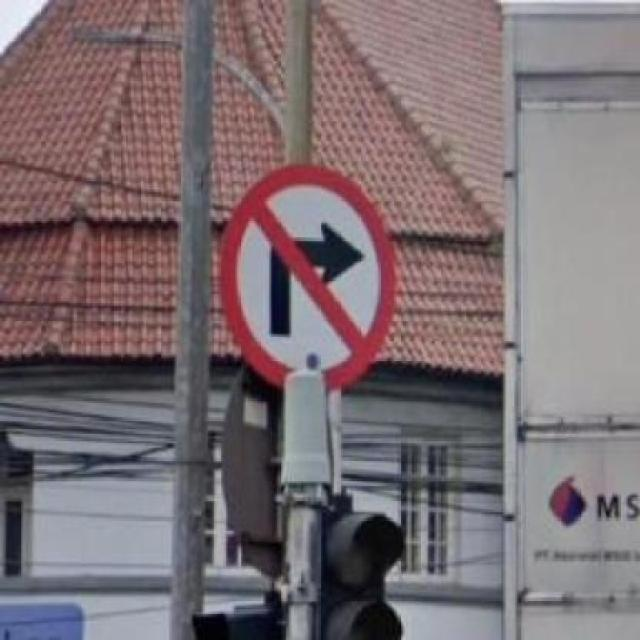right turn prohibited: (212, 163, 398, 400)
